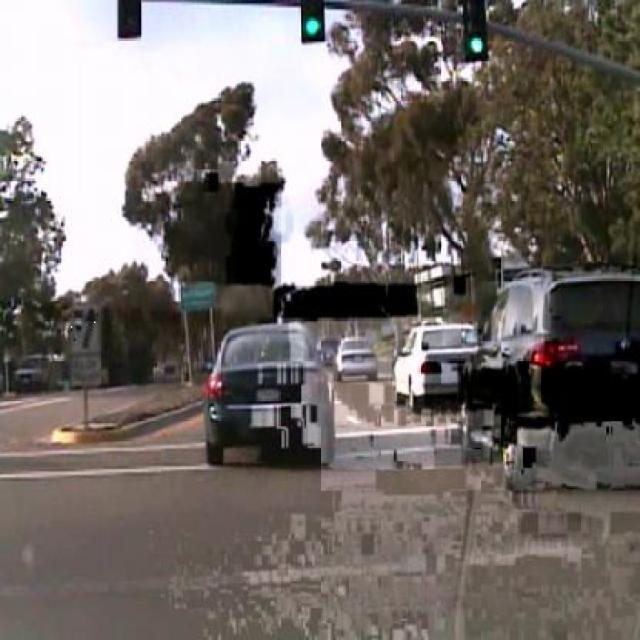keepRight: (69, 300, 100, 356)
